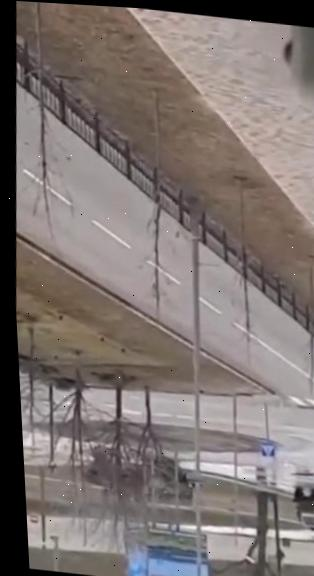truck: (76, 449, 207, 517), (288, 485, 314, 537)
